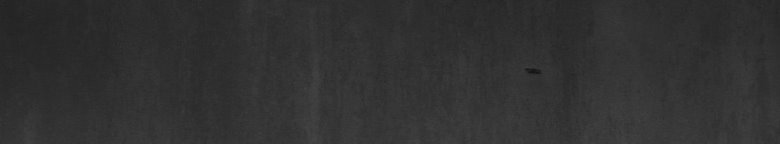fi: (525, 64, 542, 80)
